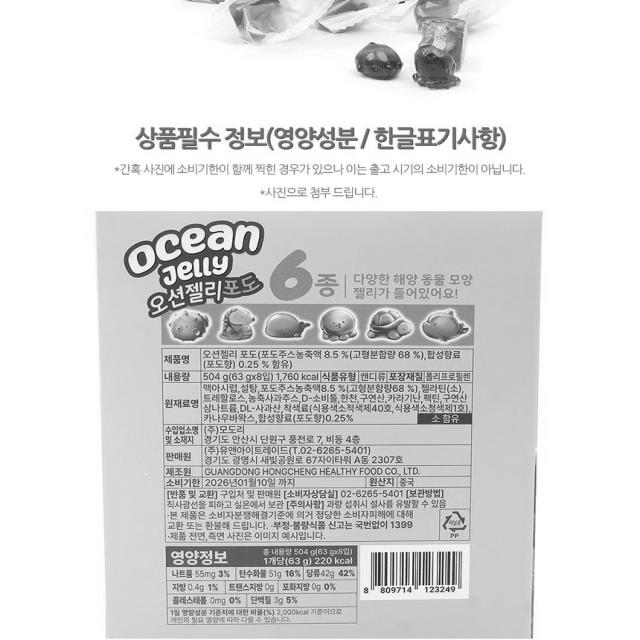Nutrition Label: (160, 541, 364, 634)
